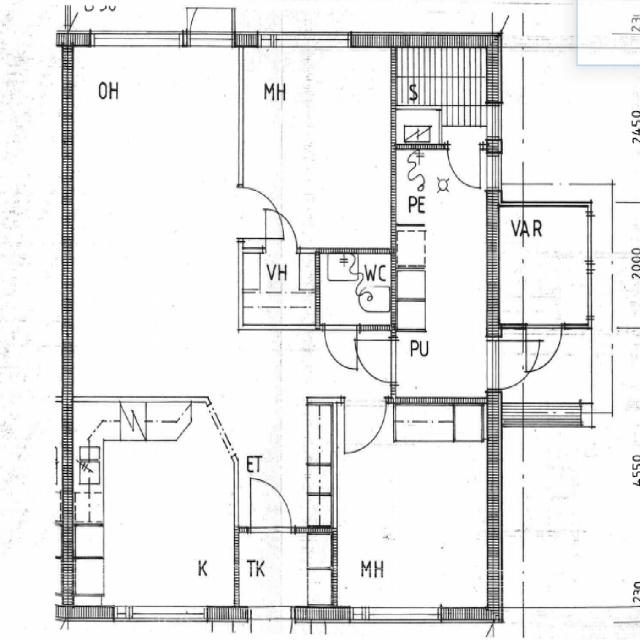door: (487, 340, 542, 389), (344, 397, 386, 455), (238, 187, 285, 238), (250, 477, 291, 532), (190, 0, 231, 46), (526, 324, 561, 372), (356, 340, 396, 382), (324, 324, 357, 370), (447, 144, 479, 189), (265, 208, 297, 252)
